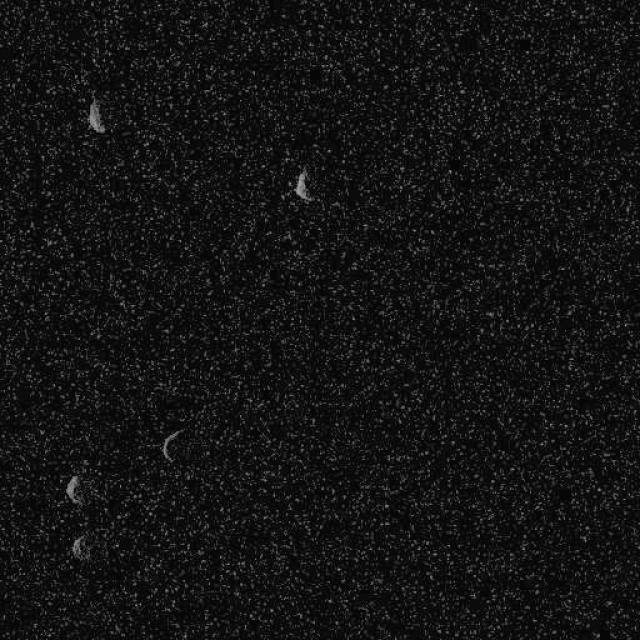D2: (291, 165, 315, 203), (160, 427, 184, 462), (86, 96, 106, 134), (64, 474, 82, 505), (70, 534, 90, 561)
